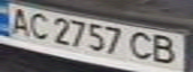2: (48, 15, 72, 47)
5: (84, 21, 109, 54)
7: (103, 25, 127, 58), (66, 18, 87, 50)
A: (3, 4, 36, 37)
B: (148, 33, 184, 67)
C: (127, 29, 160, 63), (24, 10, 54, 40)
